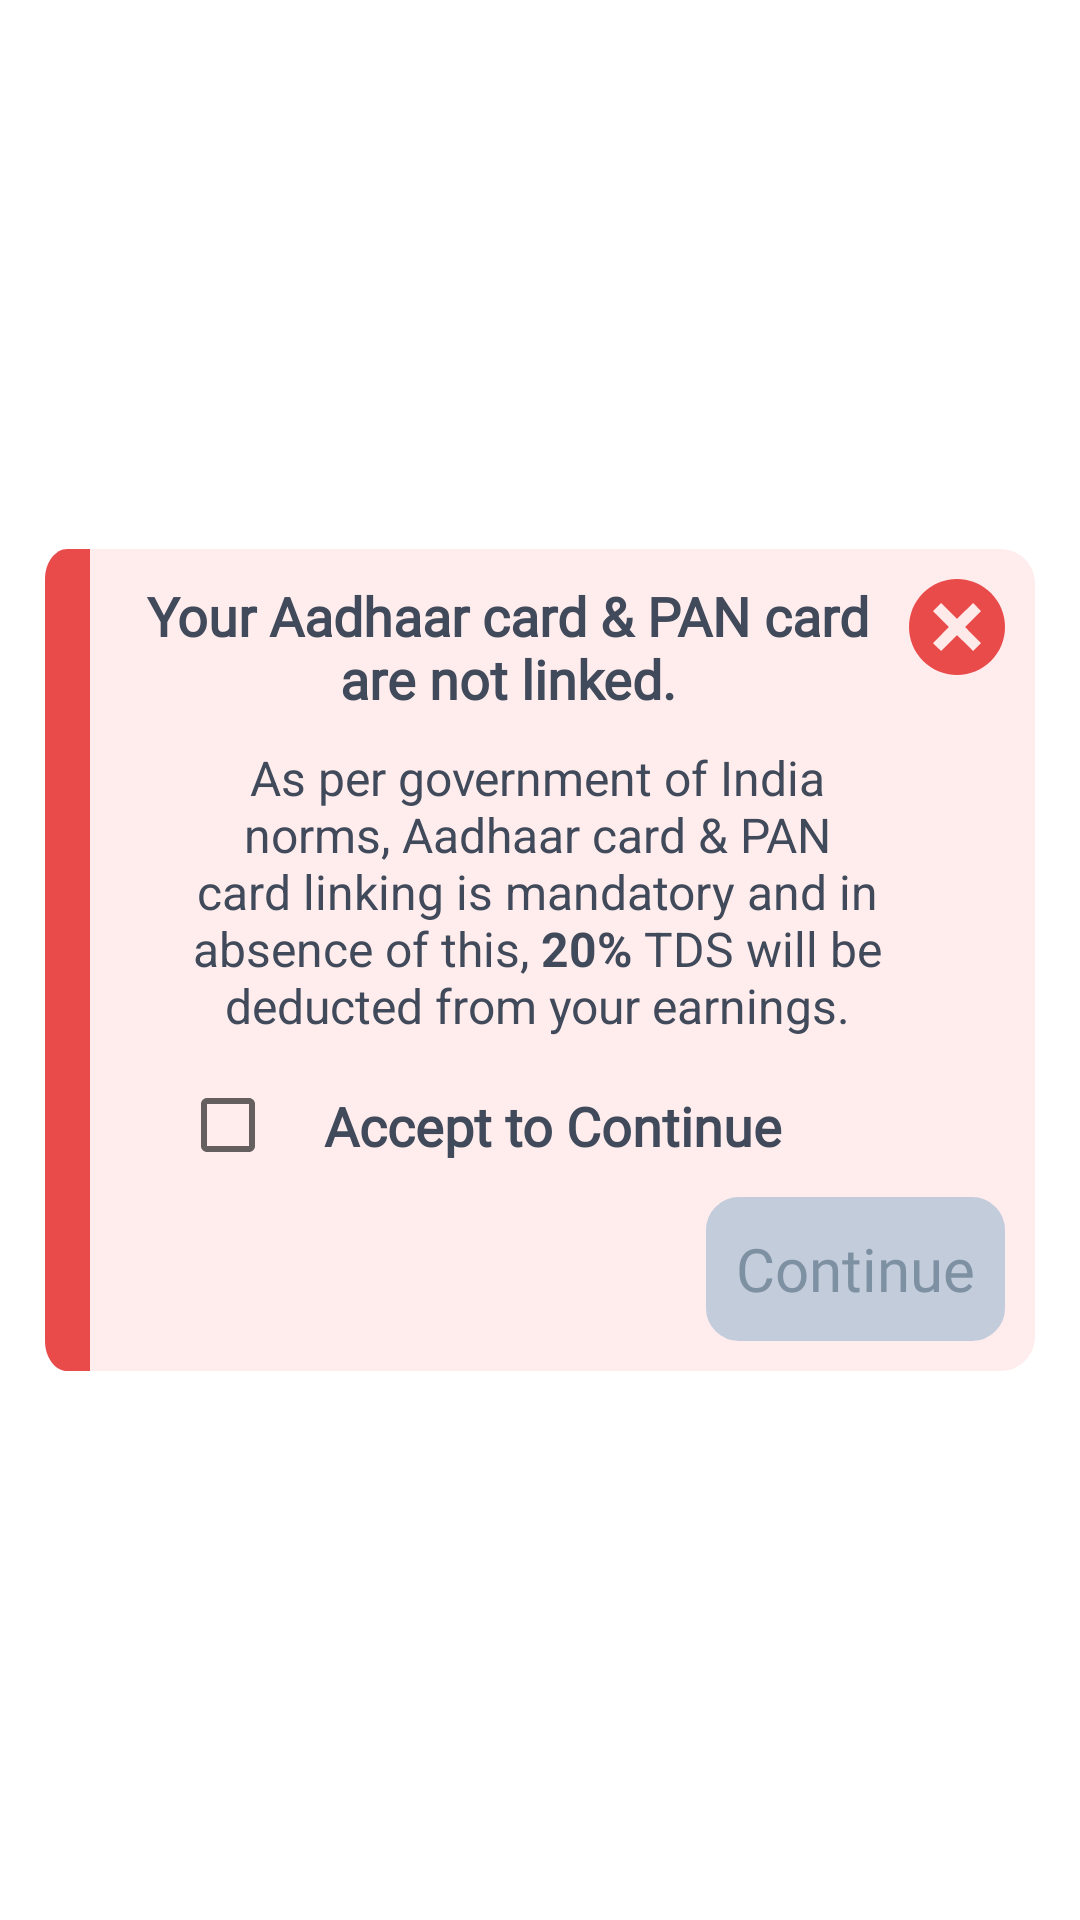

Where icons sit on this 1080*1920 app screen, as (x1, y1, x2, y2):
cancel status: (909, 579, 1005, 675)
